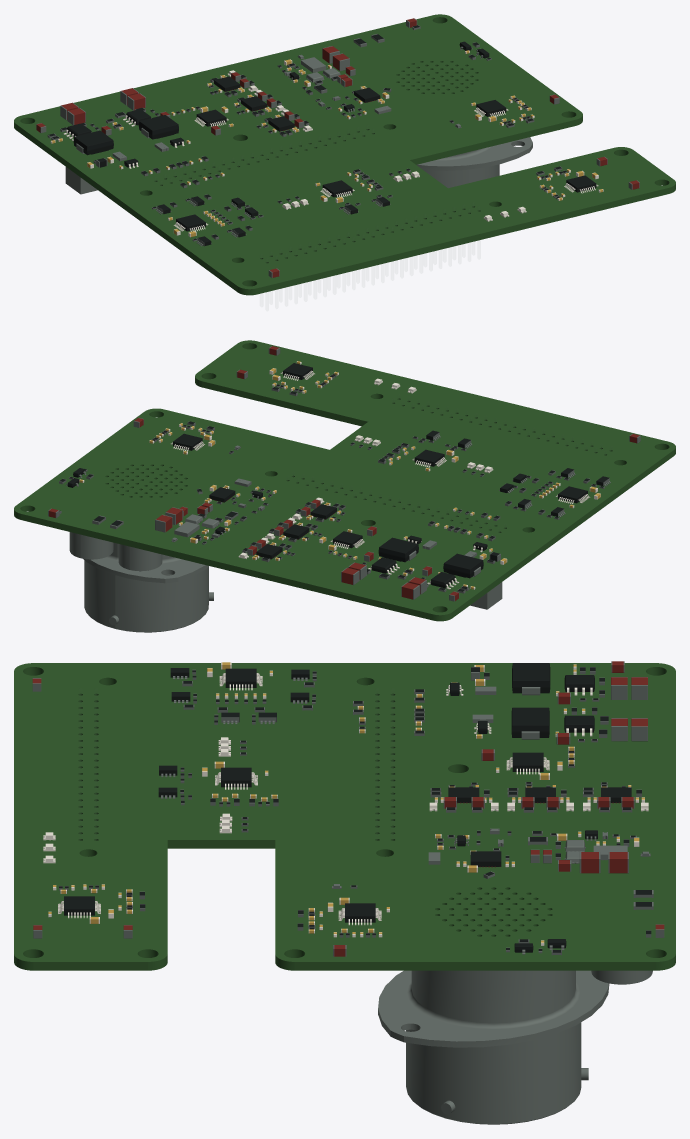
Rendered from flight-sam.glb.
The picture shows the model from 3 angles, top to bottom: view 1: azimuth 30°, elevation 25°; view 2: azimuth 150°, elevation 25°; view 3: azimuth 270°, elevation 25°; orthographic projection. The views are drawn at different scales.
Size of the model in its own units: 115 by 34.21 by 108.
